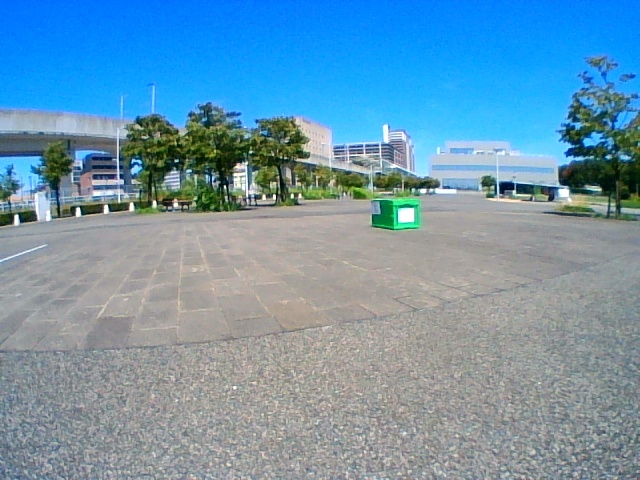green_box: (372, 199, 418, 229)
tag: (373, 202, 380, 214)
